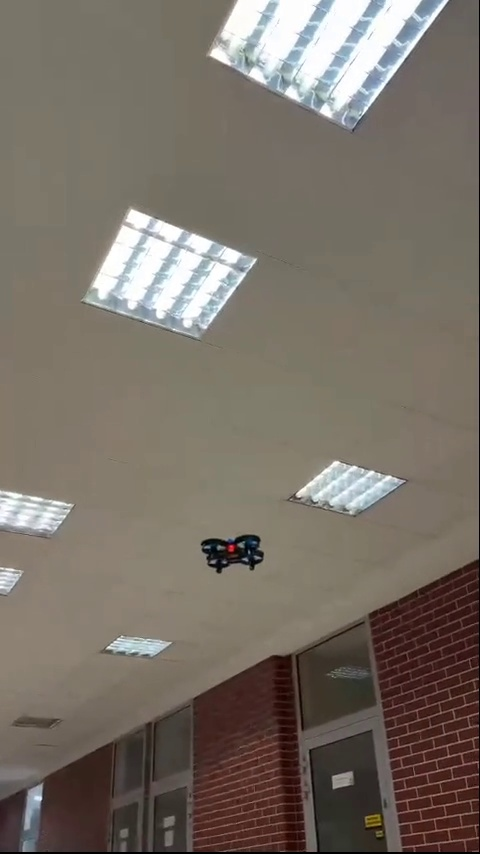drone: (197, 535, 264, 569)
